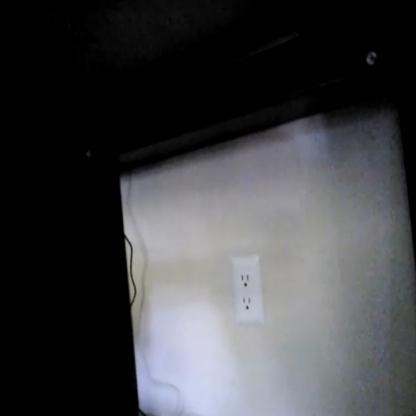OUTLET: (232, 253, 263, 322)
